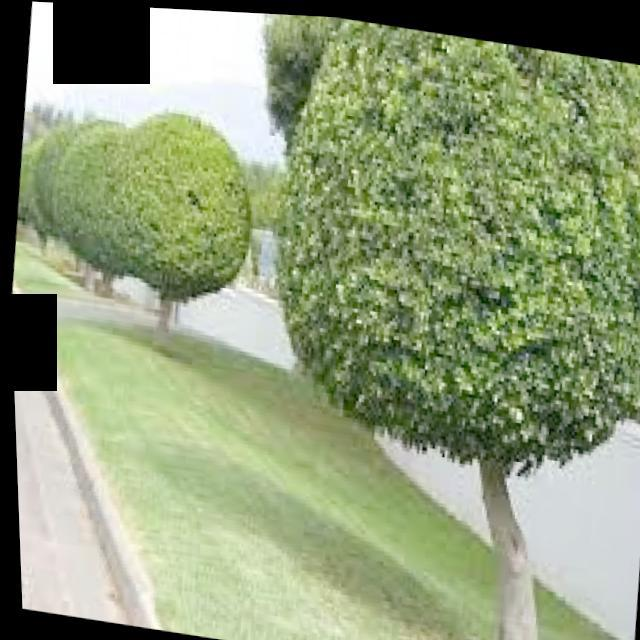Tree: (232, 10, 640, 640), (87, 102, 264, 351), (45, 109, 147, 302)
